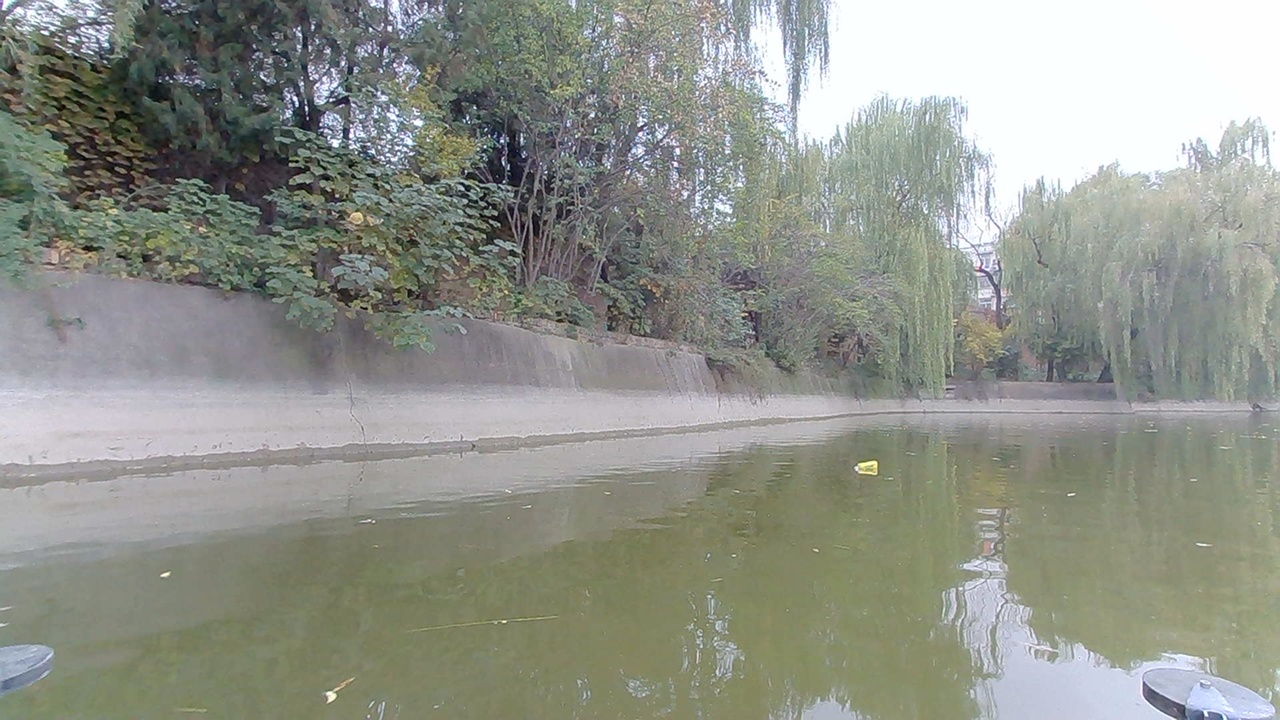bottle: (852, 456, 886, 479)
